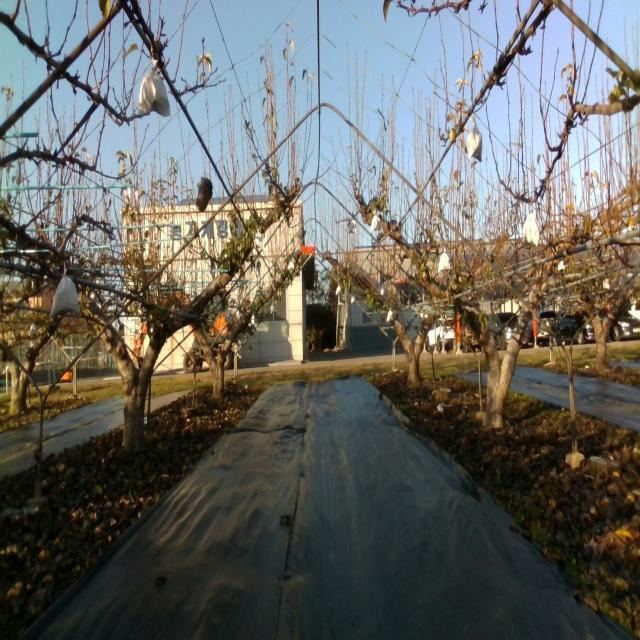pearbags: (138, 59, 171, 118), (49, 269, 82, 319), (467, 117, 483, 162), (522, 211, 538, 250), (437, 248, 451, 273), (254, 228, 265, 250)
